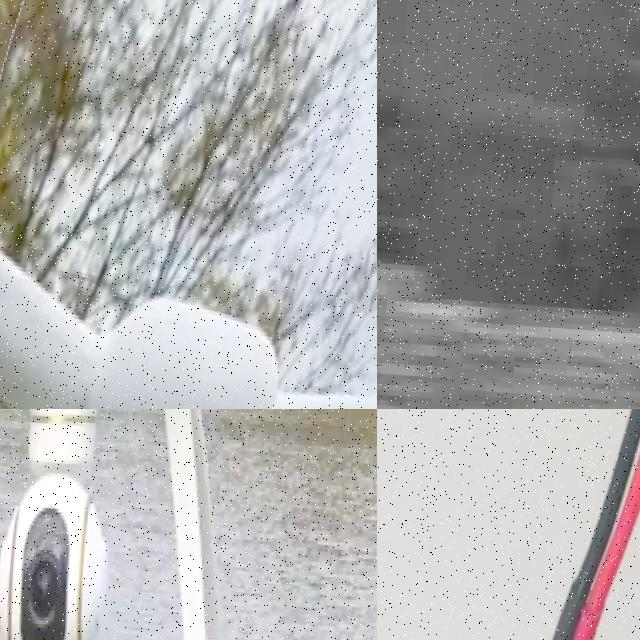drone: (0, 0, 377, 409), (377, 409, 640, 640)
